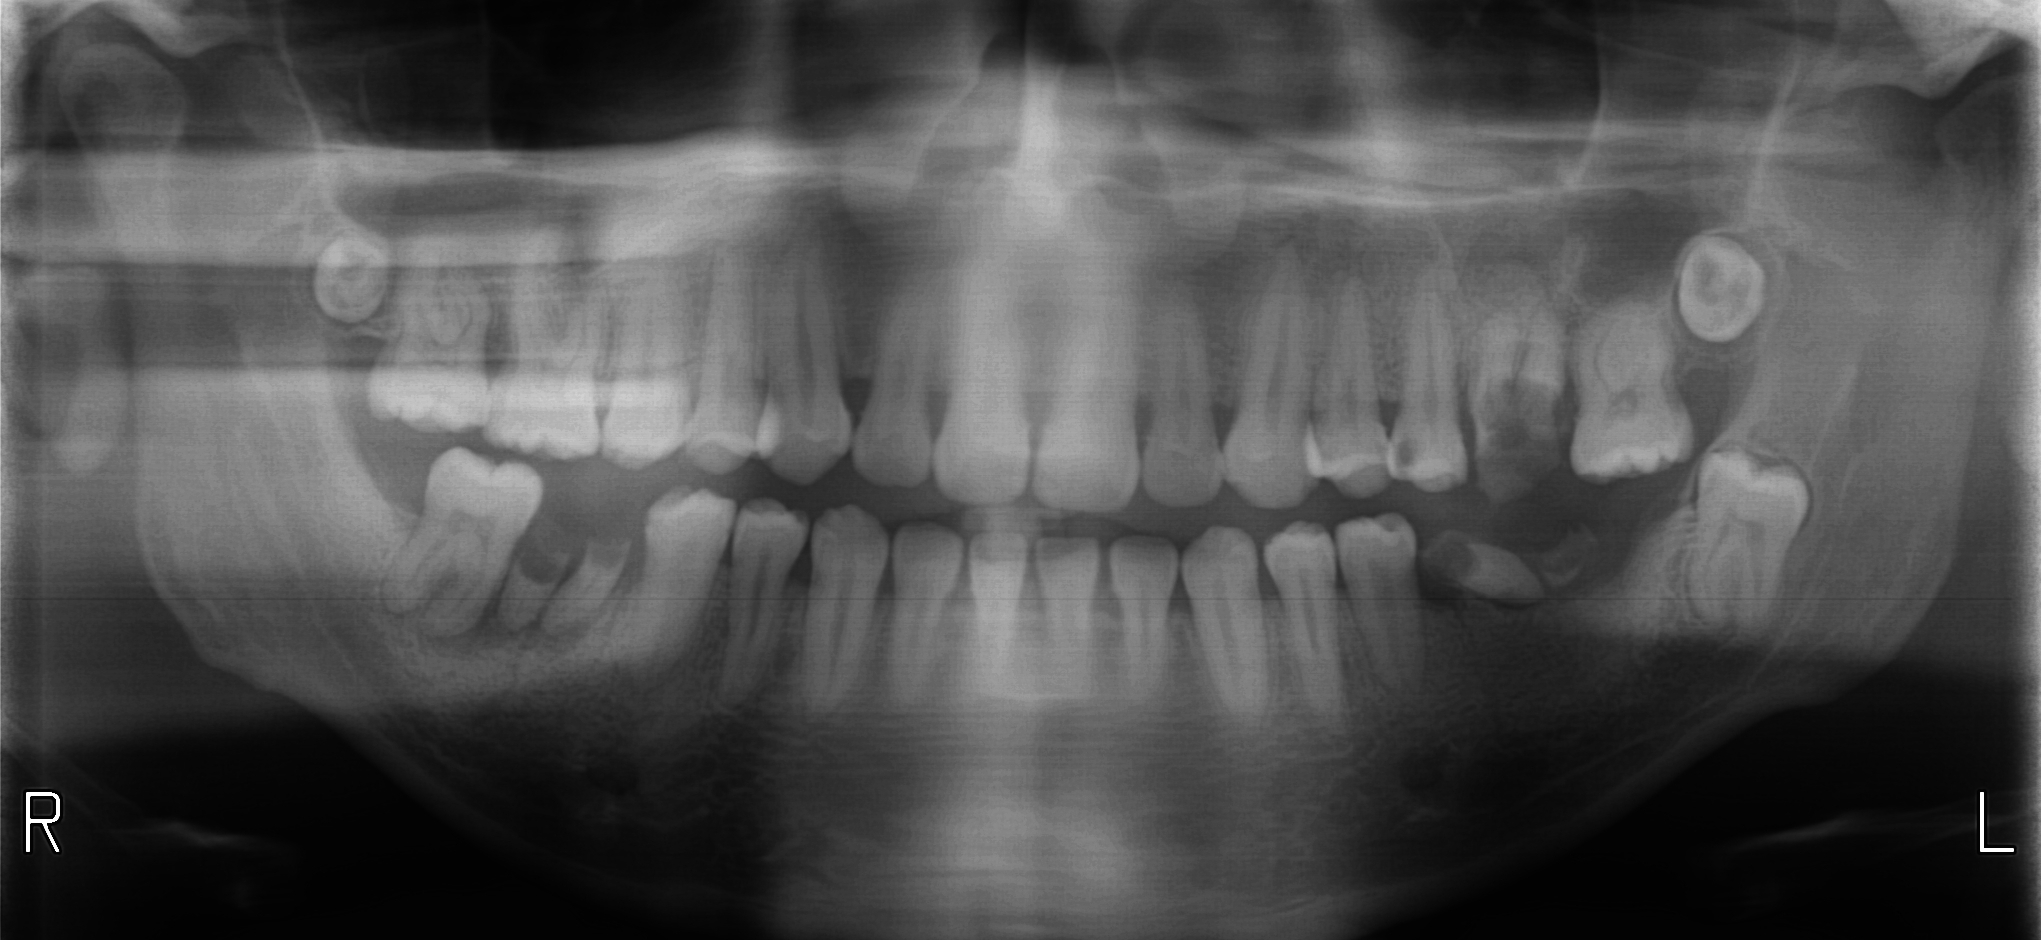cavity: (1398, 437, 1412, 469)
